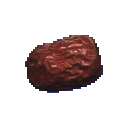gd: (20, 23, 125, 109)
